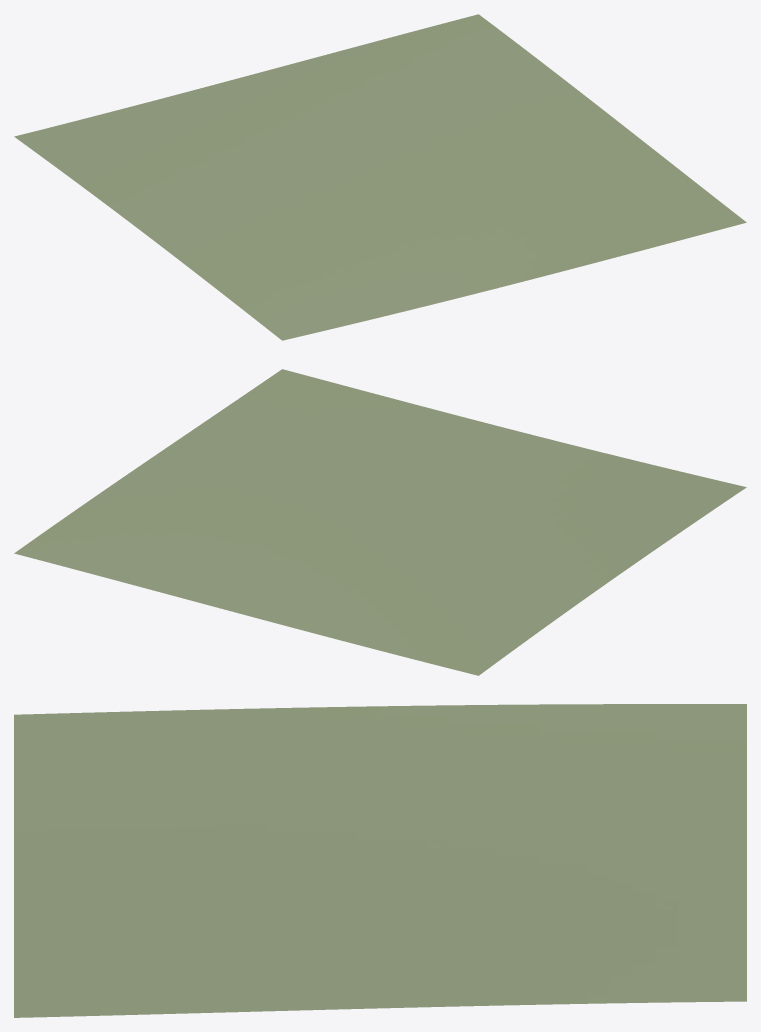
File: expanse-6-1.glb
The picture shows the model from 3 angles, top to bottom: view 1: azimuth 30°, elevation 25°; view 2: azimuth 150°, elevation 25°; view 3: azimuth 270°, elevation 25°; orthographic projection. The views are drawn at different scales.
Parts seen in each view (by area): view 1: expanse-6-1; view 2: expanse-6-1; view 3: expanse-6-1.
Boxes of the visible parts, box(x1,y1,x2,y2) form: expanse-6-1: box(14, 14, 746, 340); expanse-6-1: box(14, 369, 746, 675); expanse-6-1: box(14, 704, 746, 1017).
Bounding box in the file's own units: 256 × 9.13 × 256.
